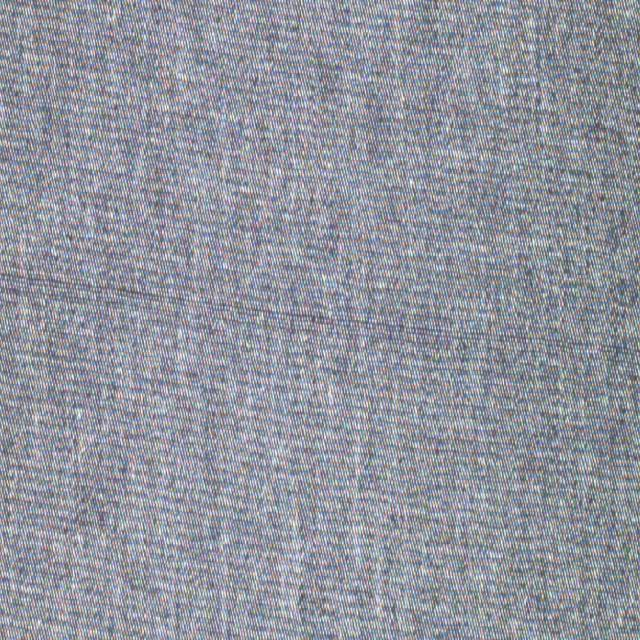Line: (0, 263, 640, 363)
